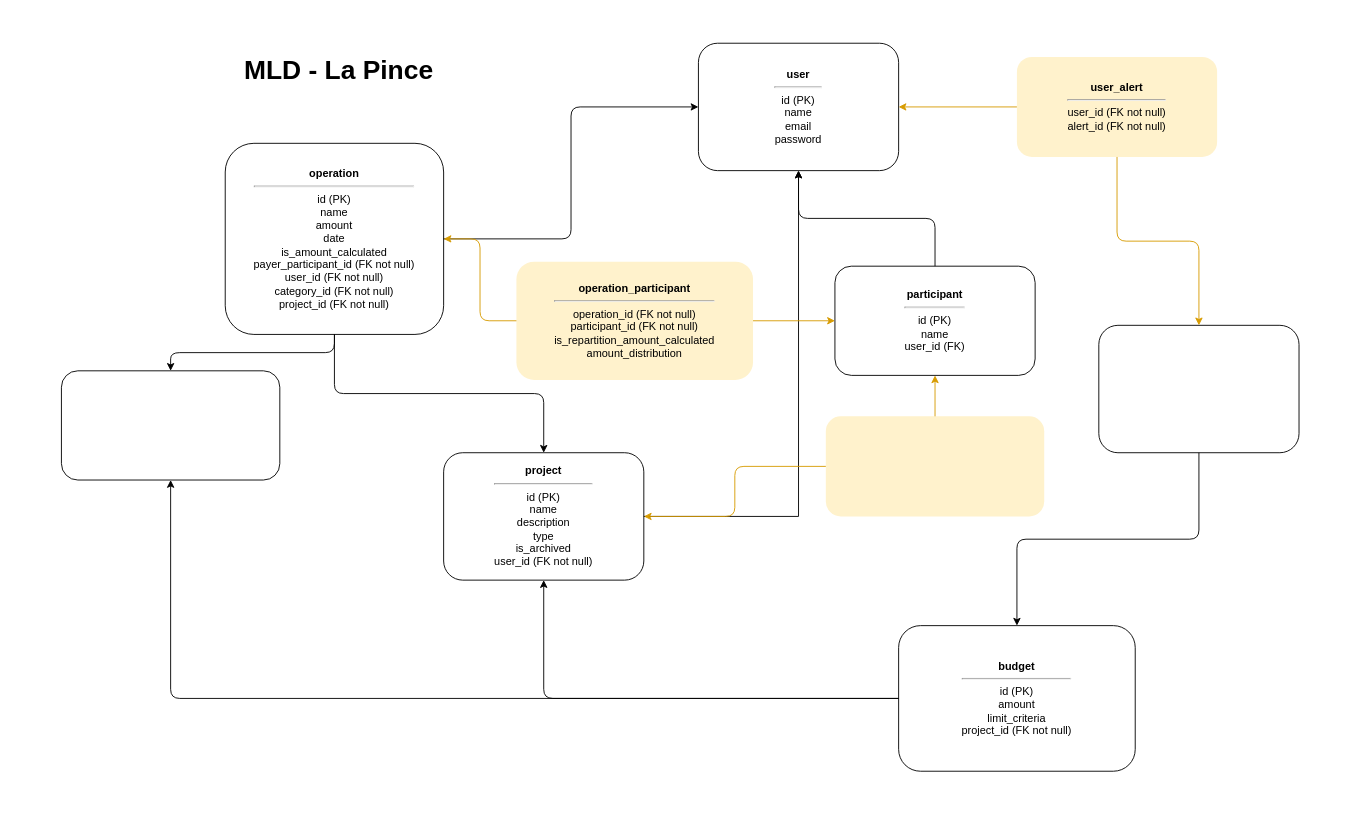
The diagram is 1369 pixels wide and 814 high, and some of its shapes have lost their labels. Each missing label, with the centre of its shape:
alert id (PK) status message budget_id (FK not null): [1198,388]
category id (PK) name color: [170,425]
project_participant project_id (FK not null) participant_id (FK not null): [934,466]
